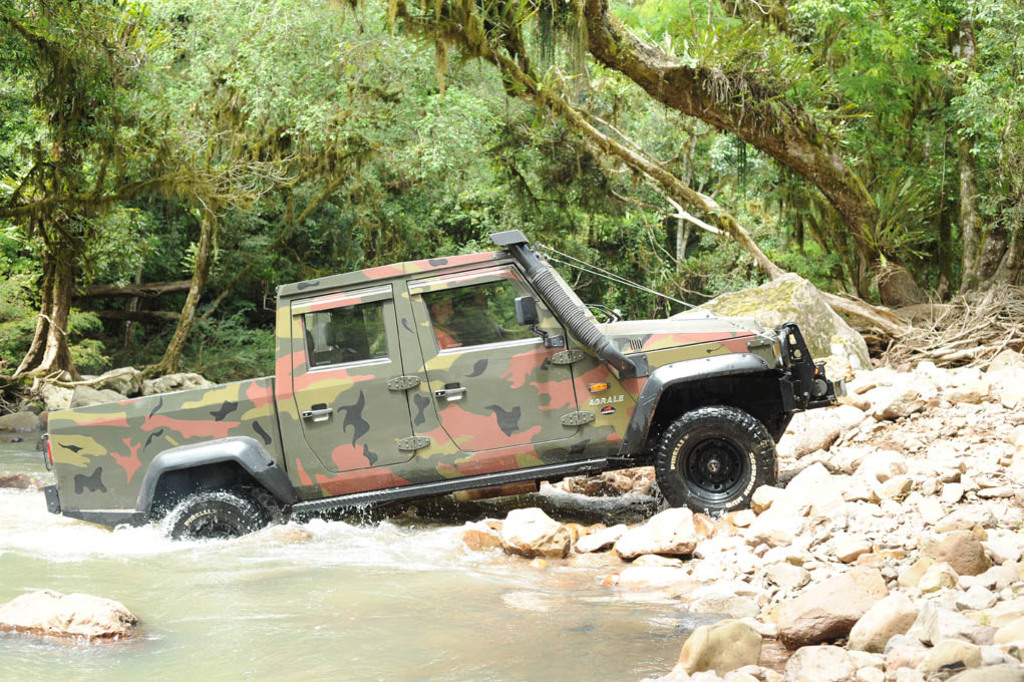Car: (87, 255, 827, 546)
